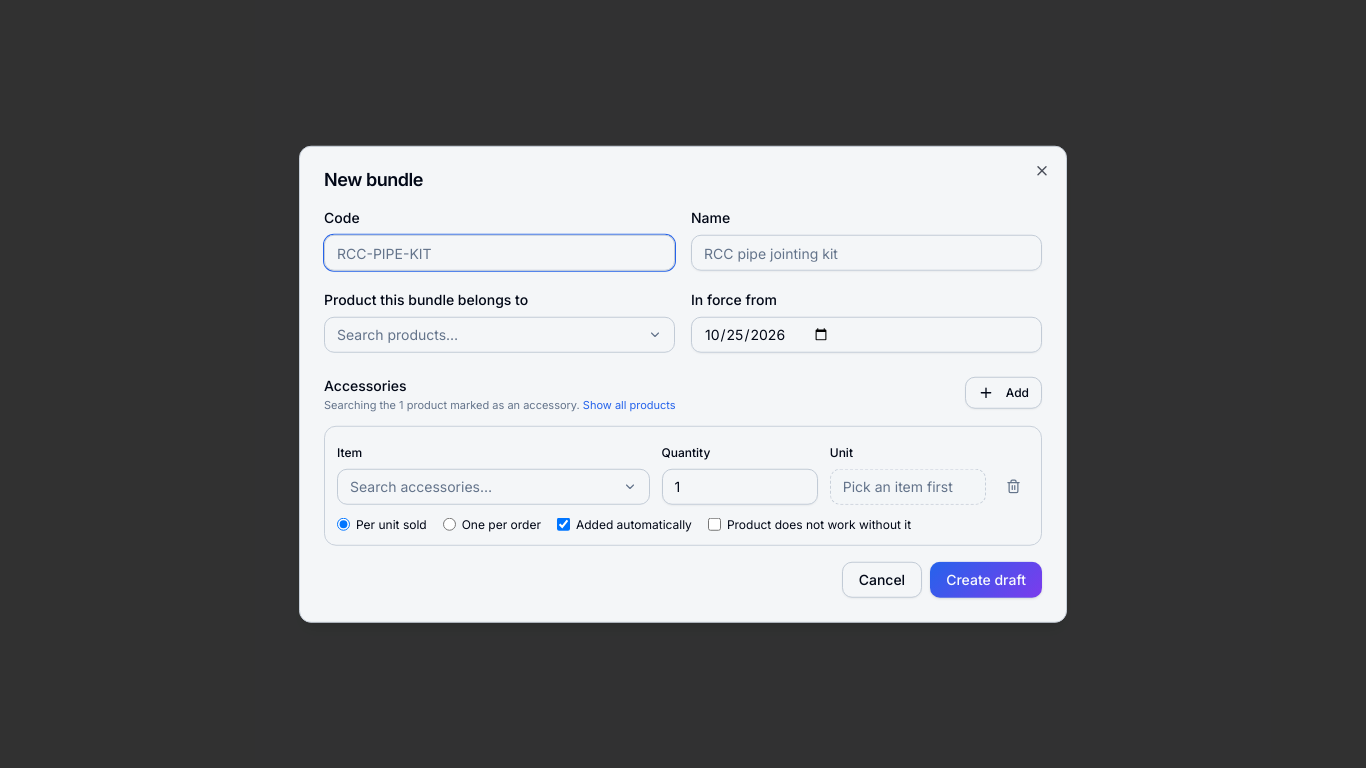
Test: BundleRuleFormDialog › refuses to save without the things a bundle cannot work without
Click the button "Create draft": [986, 579] box [930, 561, 1042, 597]
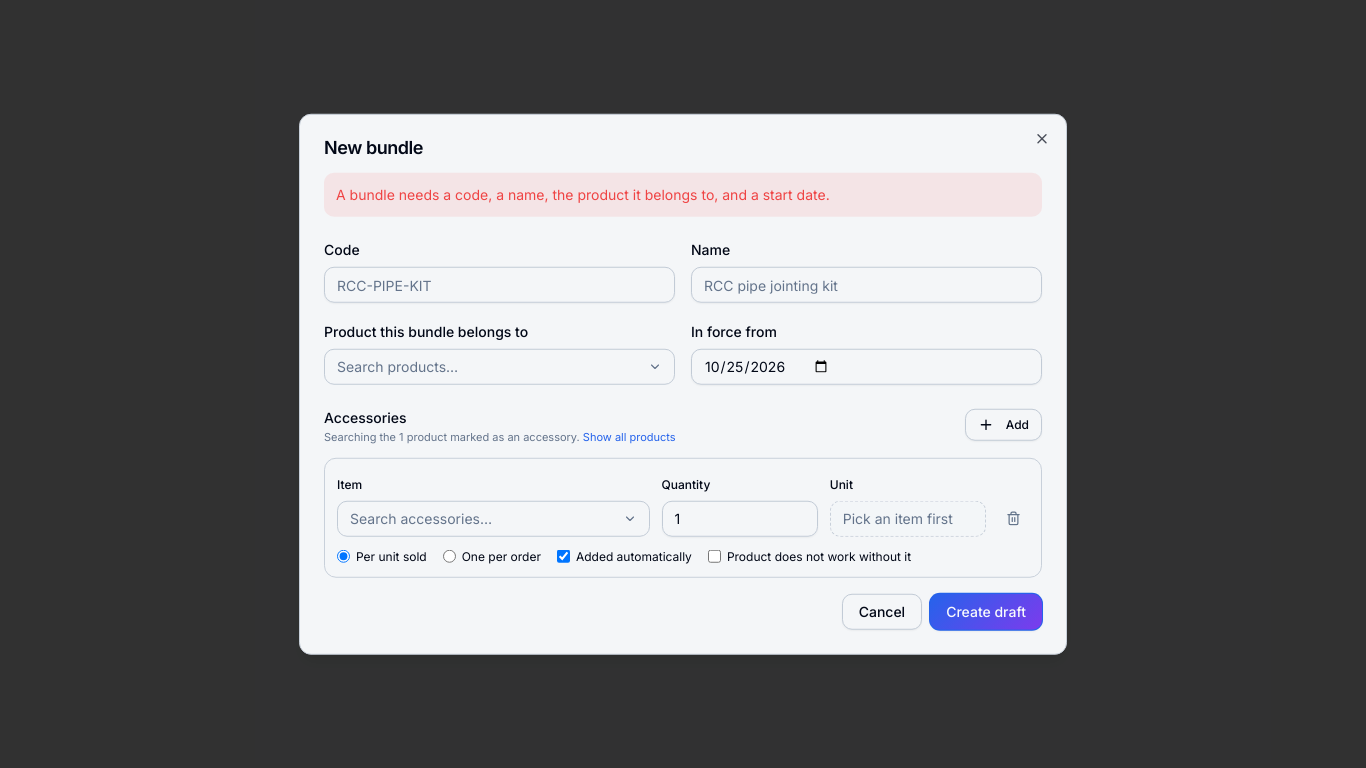
Expected: the text "needs a code, a name, the product it belongs to" is shown, [336, 186, 830, 203]
